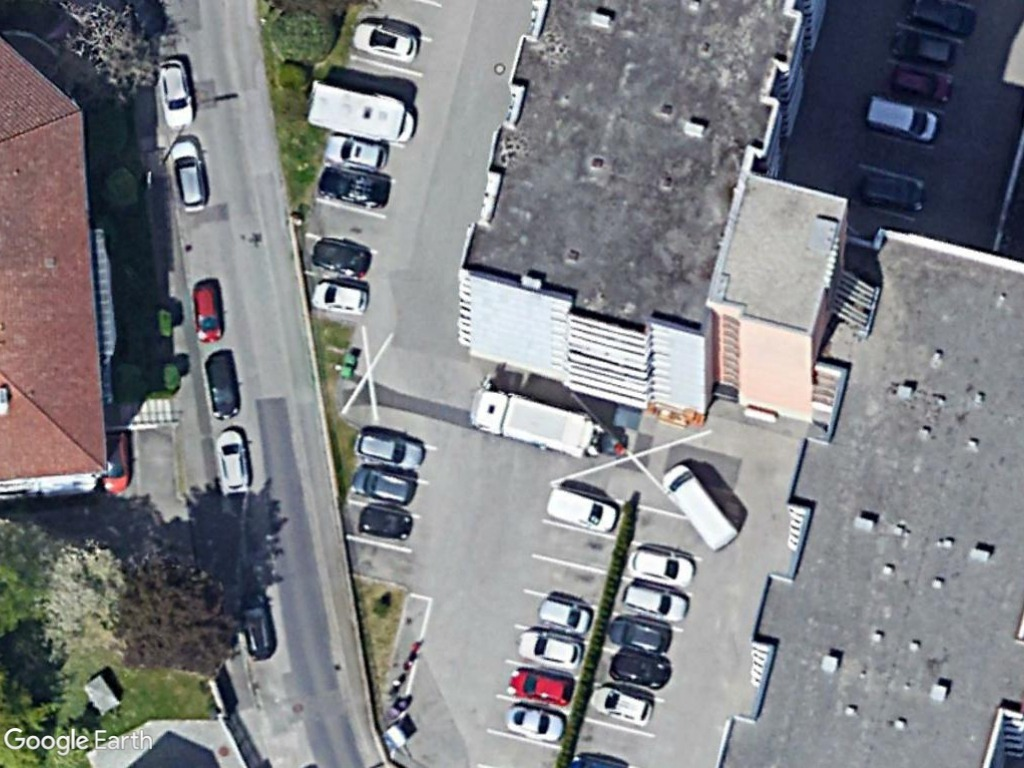car: (309, 164, 394, 213), (614, 581, 692, 627), (167, 136, 211, 214), (351, 427, 429, 471), (624, 544, 697, 591), (855, 170, 929, 216), (347, 21, 422, 65), (502, 666, 576, 710), (202, 347, 244, 422), (152, 57, 196, 128), (588, 684, 655, 730), (211, 425, 255, 495), (237, 591, 279, 664), (883, 65, 957, 105), (514, 629, 584, 671), (308, 235, 373, 280), (320, 131, 390, 172), (348, 464, 416, 506), (888, 27, 961, 66), (606, 613, 673, 655), (502, 700, 565, 744), (603, 648, 672, 688), (353, 504, 414, 544), (534, 593, 592, 635), (188, 280, 226, 344), (305, 281, 370, 316)
truck: (468, 385, 599, 460)
van: (656, 458, 742, 558), (304, 80, 420, 145), (863, 92, 942, 144), (543, 485, 620, 535)
